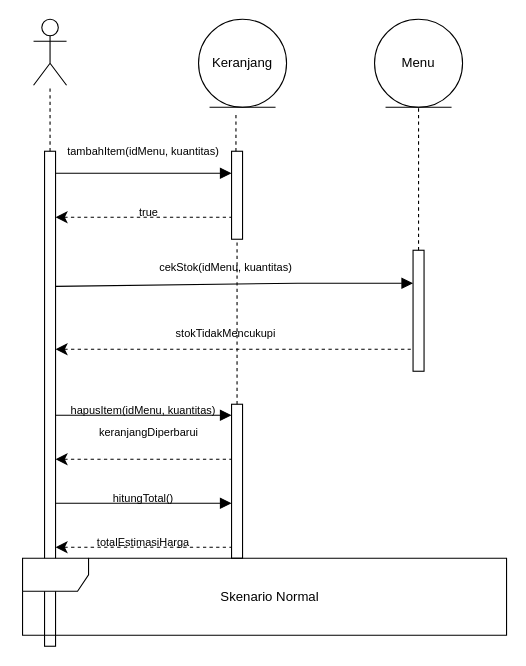
Some shapes in this 526 by 666 pixel diagram are drawn without their labels. The shapes that lost their labels are listed below. From the top down, each one's box as (x1, y1, x2, y2) in pixels, then its label:
(32, 18, 67, 85): Pelanggan
(21, 557, 507, 635): ref
